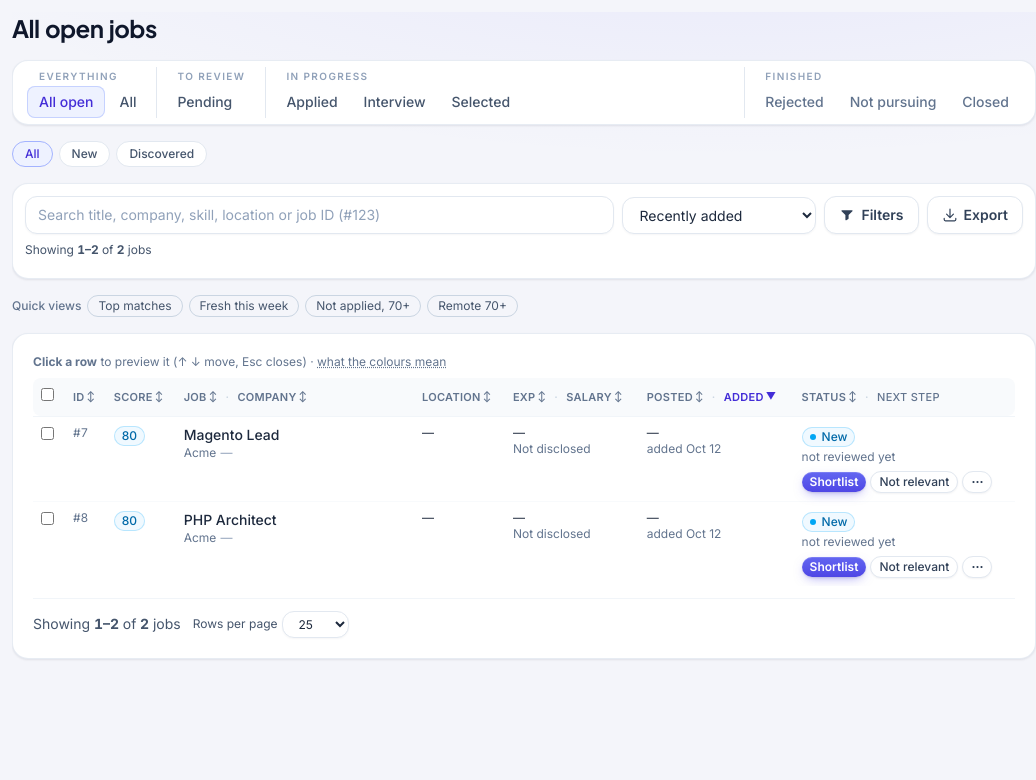
it: bulk actions › ticks jobs and changes their status together
Click the checkbox named "Select all jobs on this page" at [48, 394], box [41,388,54,401]
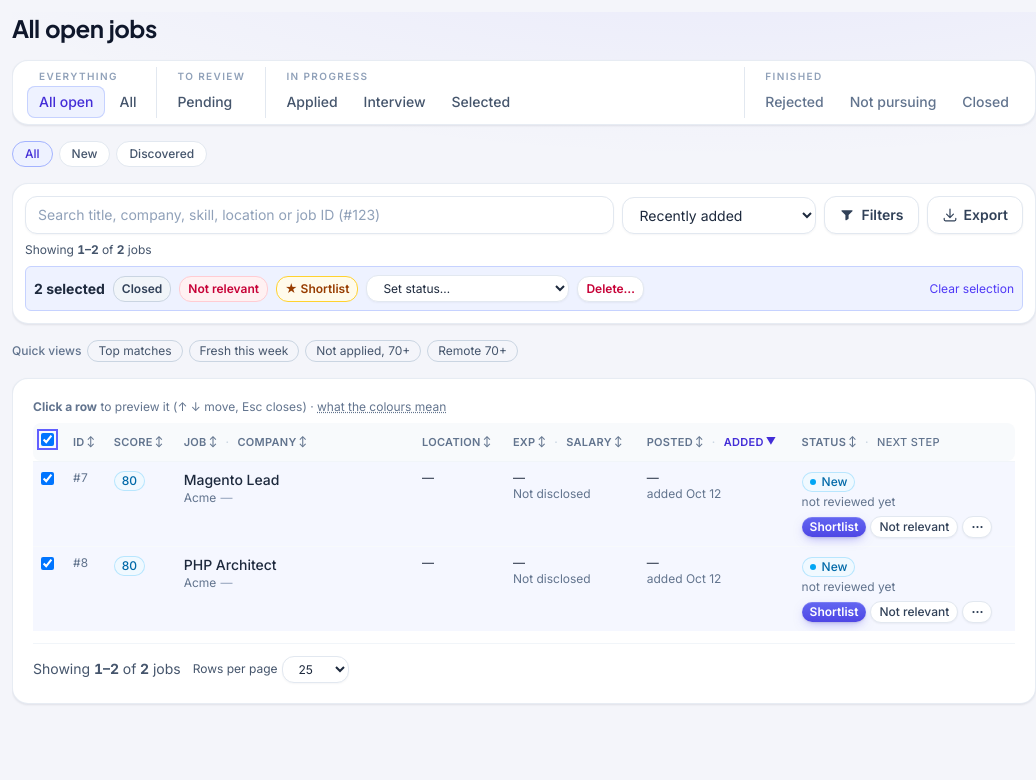
Expected: the text "2 selected" is shown, [34,278,105,298]
Click the 1st button "Not relevant" at [224, 288], box [179,276,268,302]
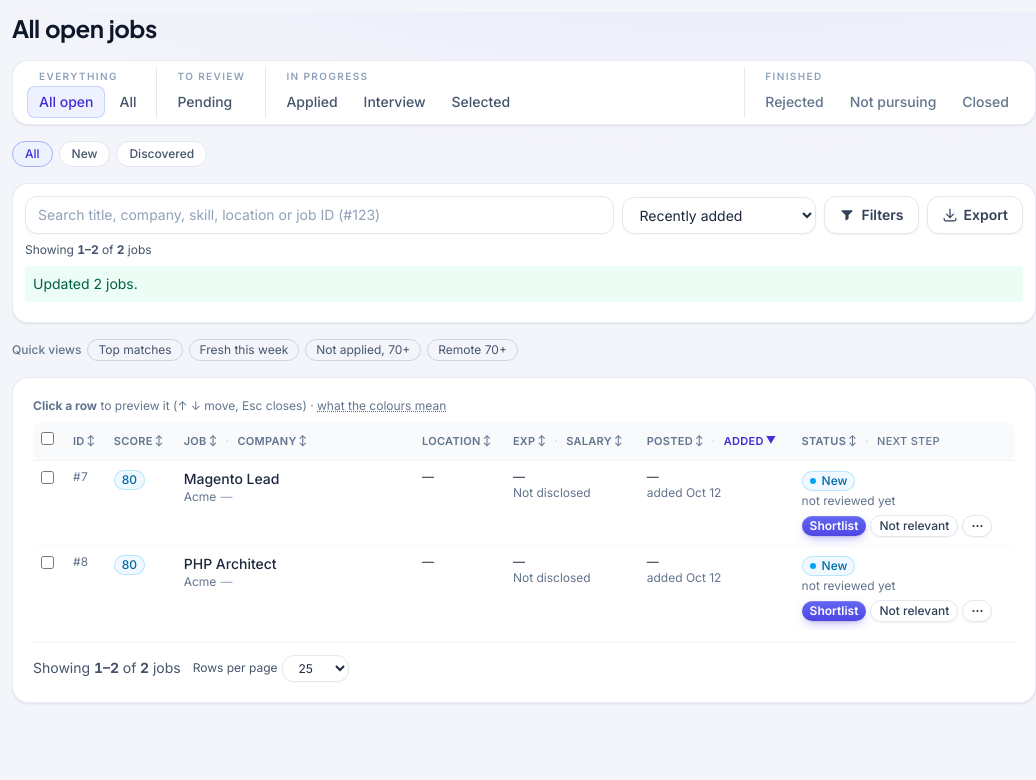
Expected: the text "Updated 2 jobs." is shown, [25,266,1023,302]
